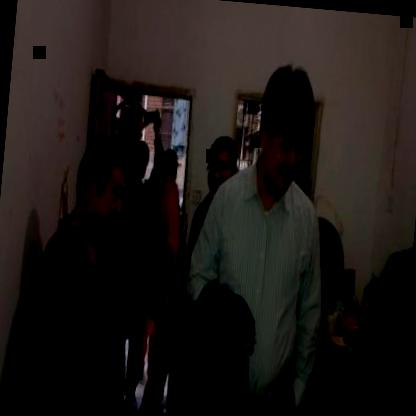head: (256, 57, 322, 195), (66, 131, 134, 242), (204, 130, 242, 194), (130, 140, 153, 186), (159, 144, 182, 186)
